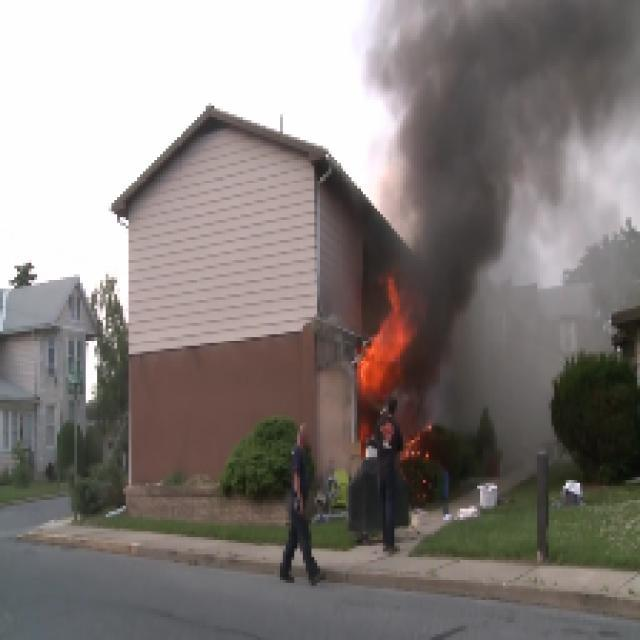Fire: (343, 268, 460, 534)
Smoke: (317, 0, 640, 323)
